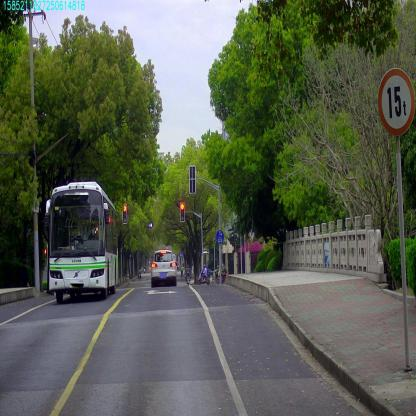traffic-light: (122, 204, 127, 223), (180, 202, 184, 221)
